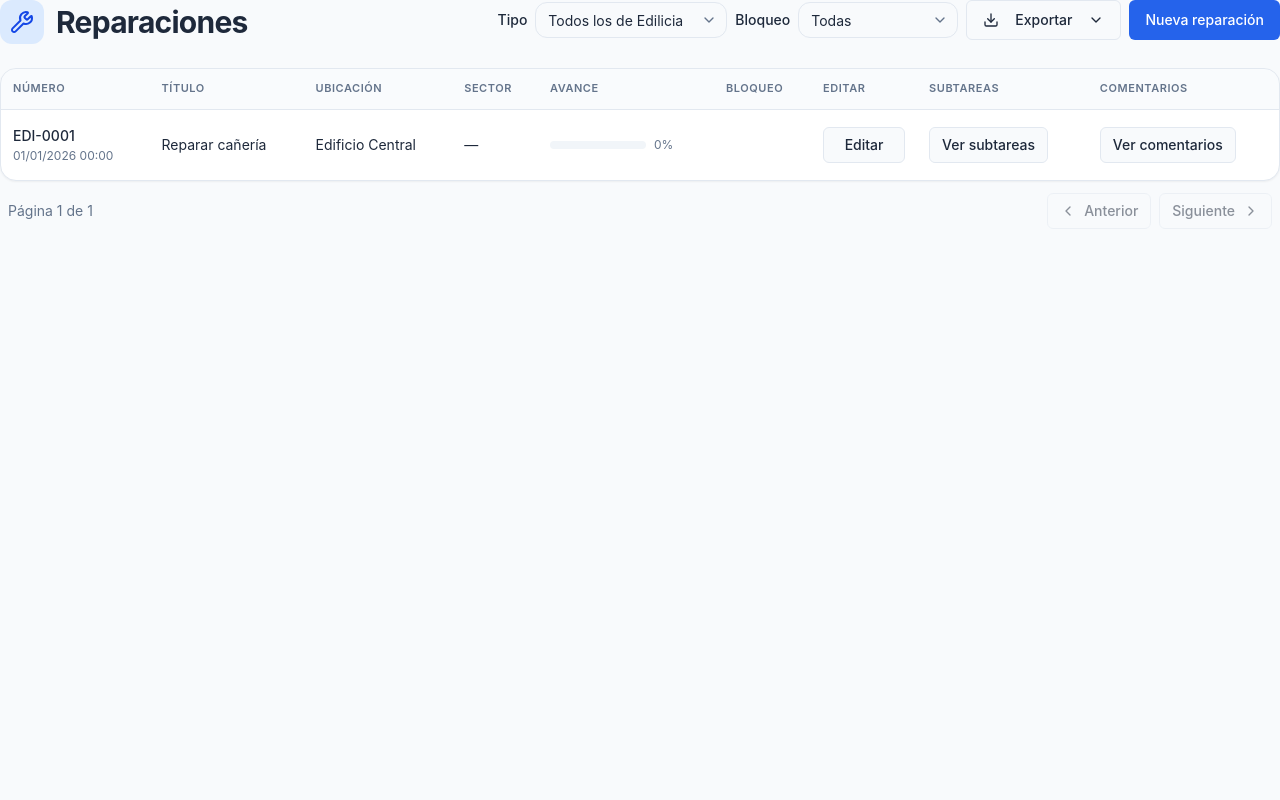
ReparacionesList — fila cerrada, cancelada o bloqueada: subtareas de solo lectura, comentarios internos abiertos › en una reparación abierta y no bloqueada, los dos diálogos siguen dejando agregar
Expected: the text "EDI-0001" is shown, x1=13 y1=126 x2=75 y2=144
Click the button "Ver subtareas". click: coordinates (989, 144)
box: x1=929 y1=126 x2=1048 y2=162
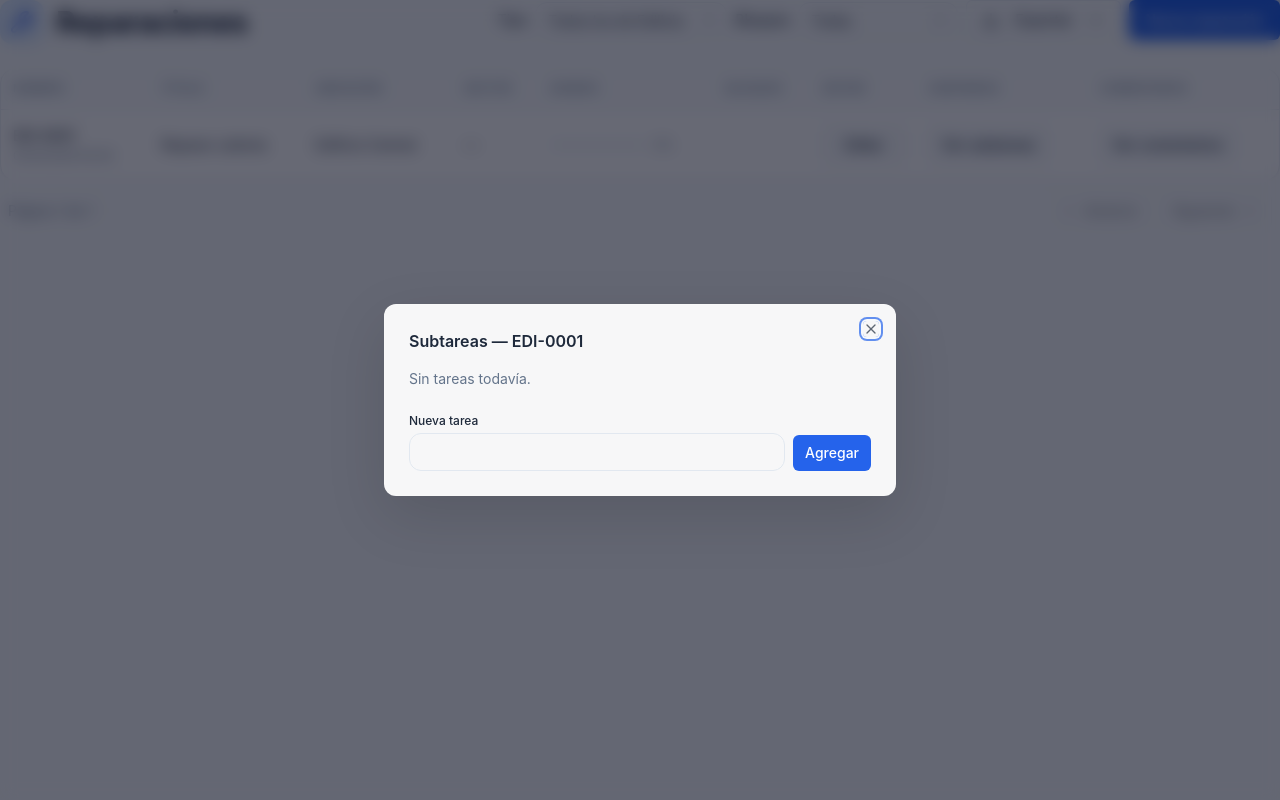
Press Escape
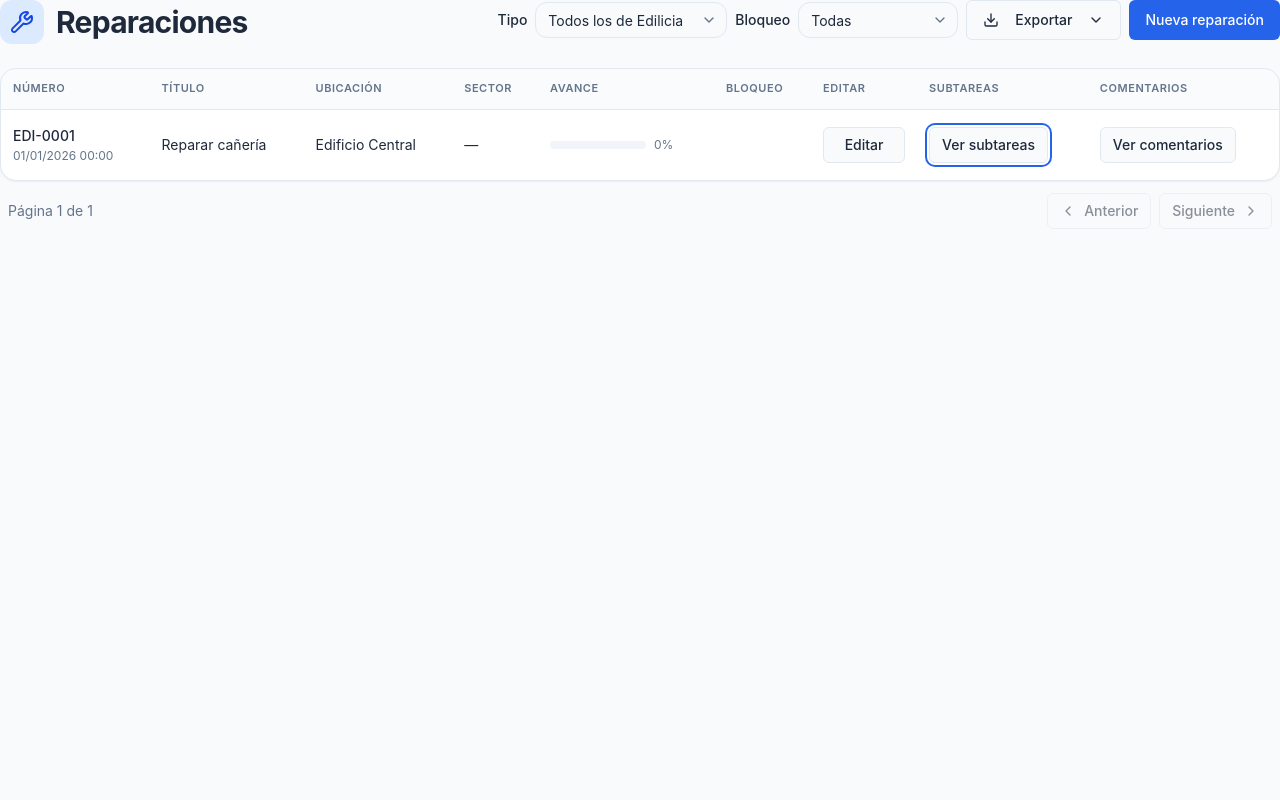
Click the button "Ver comentarios". click: coordinates (1168, 144)
box: x1=1100 y1=126 x2=1236 y2=162
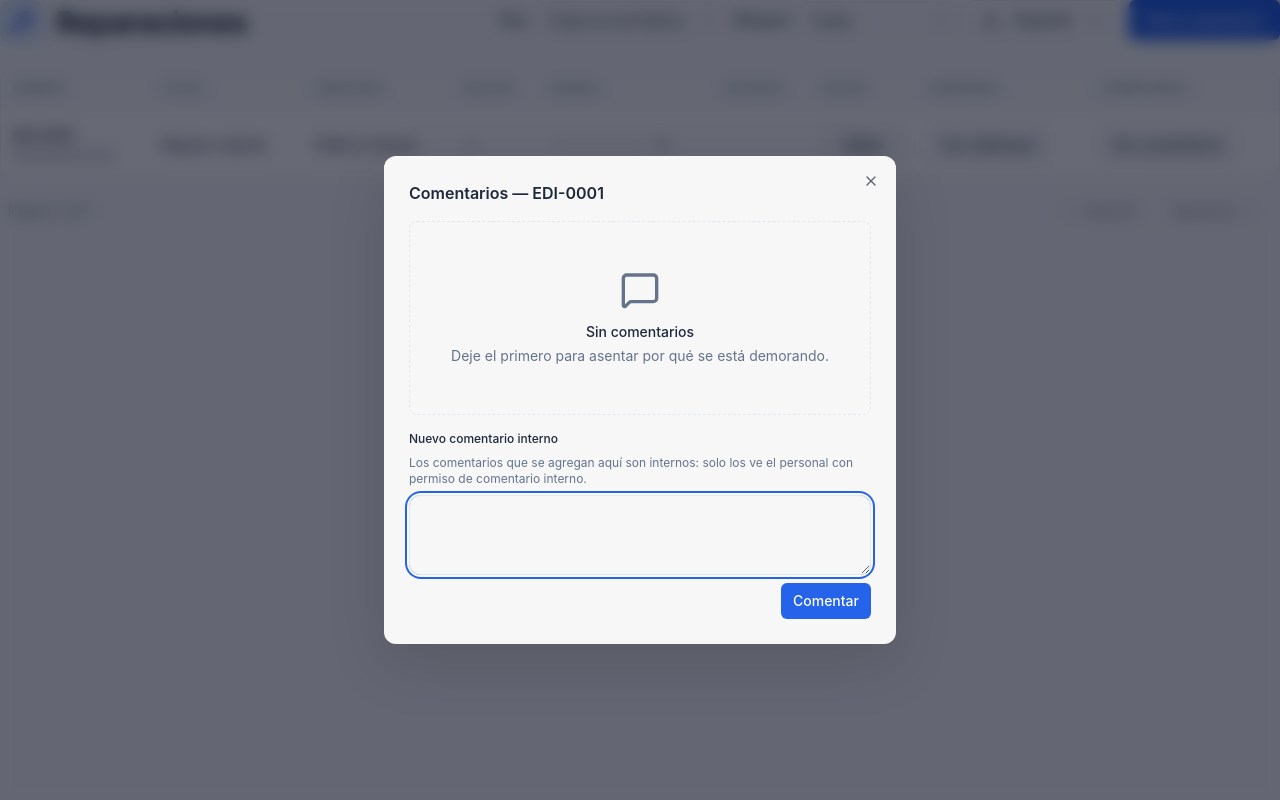
Expected: the text box labelled "Nuevo comentario interno" is shown, x1=409 y1=495 x2=871 y2=575
Expected: the text "internos" is shown, x1=409 y1=455 x2=853 y2=486
